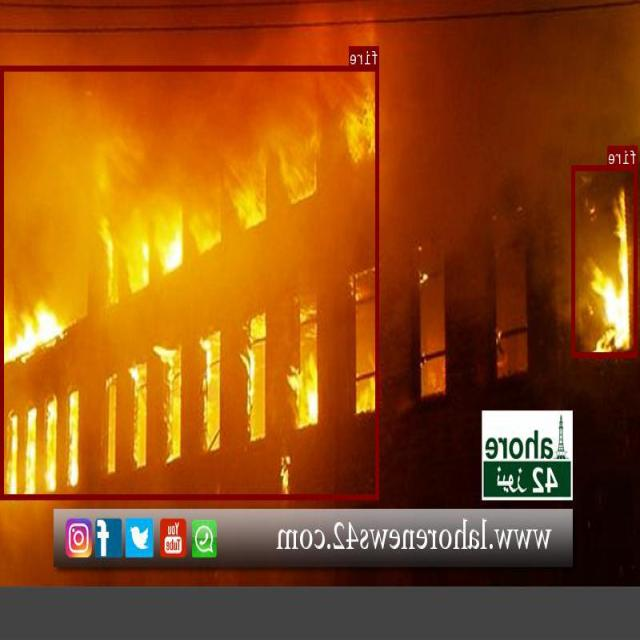fire: (2, 64, 380, 498), (572, 165, 638, 357)
